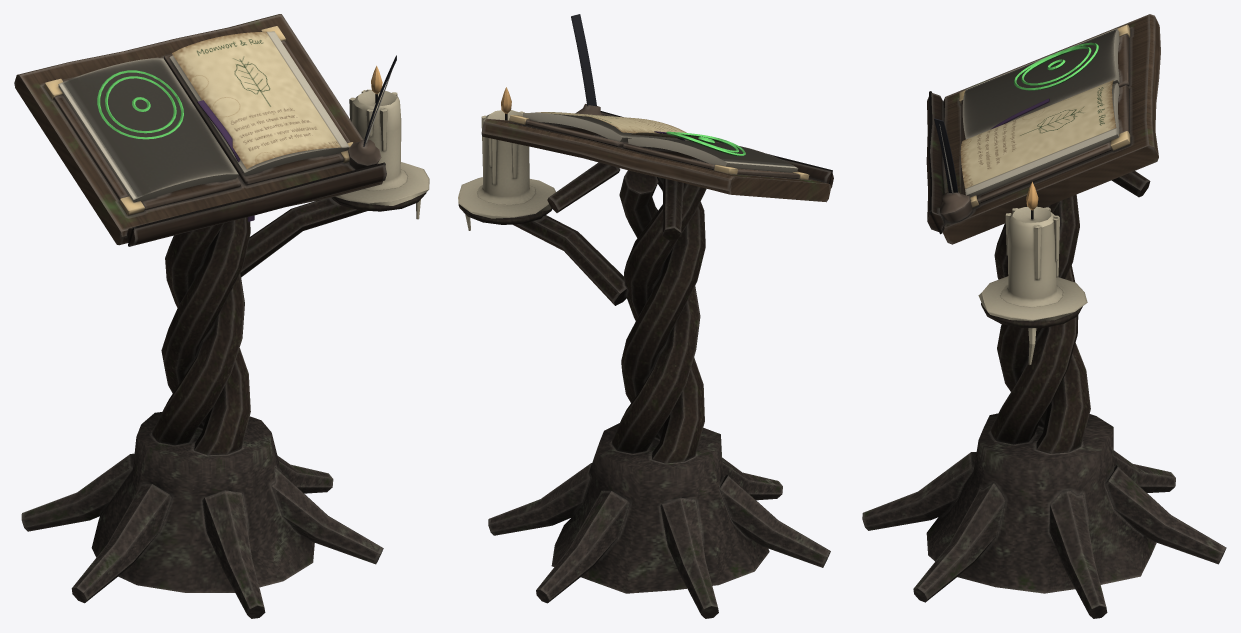
File: SpellLectern.fbx
3 views of the same model, side by side, from view 1: azimuth 30°, elevation 25°; view 2: azimuth 150°, elevation 25°; view 3: azimuth 270°, elevation 25° (orthographic). The views are drawn at different scales.
Visible parts, largest first — view 1: SpellLectern_Main, SpellLectern_Glow; view 2: SpellLectern_Main, SpellLectern_Glow; view 3: SpellLectern_Main, SpellLectern_Glow.
Part boxes in pixels (bbox=[...]): SpellLectern_Main: bbox=[14, 14, 429, 618]; SpellLectern_Glow: bbox=[97, 70, 183, 139]; SpellLectern_Main: bbox=[458, 14, 833, 618]; SpellLectern_Glow: bbox=[666, 131, 745, 156]; SpellLectern_Main: bbox=[862, 14, 1226, 618]; SpellLectern_Glow: bbox=[1013, 42, 1098, 90].
Bounding box in the file's own units: 352 × 449 × 299.
